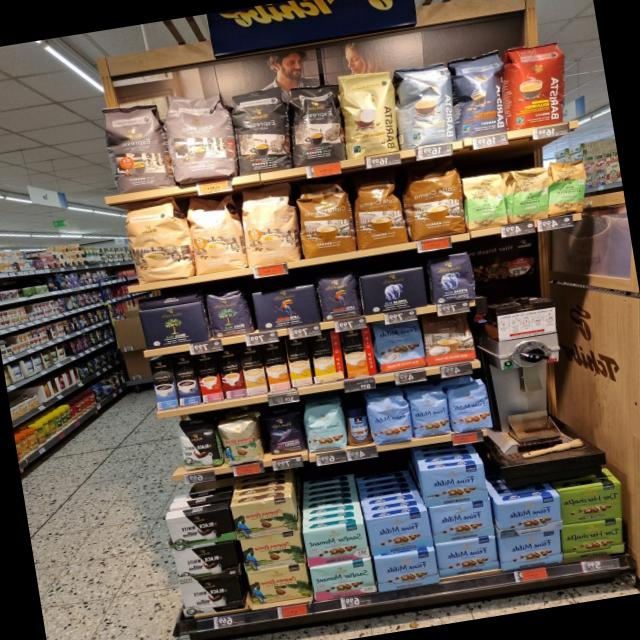AB Bohne: (422, 250, 480, 306)
AB Gemahlen: (356, 265, 431, 317)
Athiopien Bohne: (547, 156, 588, 218)
Athiopien Gemahlen: (501, 165, 556, 225), (458, 170, 510, 233)
BM Bohne: (204, 286, 256, 340)
BM Gemahlen: (137, 300, 210, 352)
BW Bohne: (176, 414, 227, 474)
BW Gemahlen: (166, 506, 238, 550), (173, 540, 244, 584), (178, 573, 247, 618)
Barista CB: (332, 66, 406, 162)
Barista CC: (386, 60, 463, 152)
Barista Espresso: (442, 47, 516, 142)
Barista Kolumbien: (492, 37, 580, 133)
C Fino Bohne: (264, 404, 308, 456)
CC Mild: (122, 195, 198, 286), (182, 190, 251, 278), (237, 180, 306, 268)
CC Vollmundig: (419, 312, 478, 367)
CC Vollmundig 36 Pads: (399, 164, 471, 244), (292, 179, 360, 260), (348, 176, 410, 252)
Colombia BB Bohne: (218, 412, 266, 468)
Colombia BB Gemahlen: (230, 494, 300, 540), (245, 561, 314, 606), (239, 530, 306, 574)
Espresso Aromatisch: (158, 86, 242, 188)
Espresso Kraftig: (225, 84, 300, 178), (280, 80, 352, 170)
Espresso M Art: (99, 97, 175, 197)
FM 36 Pads: (372, 320, 426, 374)
FM Bohne: (364, 390, 415, 448), (444, 377, 494, 434), (406, 384, 454, 440)
FM Gemahlen: (364, 508, 436, 558), (418, 461, 491, 508), (427, 498, 498, 546), (494, 493, 566, 539), (372, 546, 441, 594), (496, 527, 566, 573), (432, 535, 503, 579)
FM Instant: (340, 406, 374, 448)
Herzhatfe Mundig: (555, 481, 628, 527), (557, 516, 628, 562)
LG Bohne: (314, 272, 363, 324)
LG Gemahlen: (250, 283, 322, 333)
SM Bohne: (299, 398, 350, 456)
SM Gemahlen: (302, 520, 372, 569), (308, 556, 378, 603)
Simo CCMild: (306, 328, 348, 386)
Simo CCMild bigpack: (283, 336, 315, 389)
Simo CCVollmundig: (339, 326, 378, 378)
Simo CCVollmundig bigpack: (262, 340, 292, 394)
Simo Decaff: (239, 344, 269, 396)
Simo Es Elegant: (194, 351, 223, 404)
Simo Es Kraft: (216, 348, 248, 400)
Simo Kaffee Kraft: (172, 354, 202, 407)
Simo Kaffee Mild: (148, 356, 180, 412)
